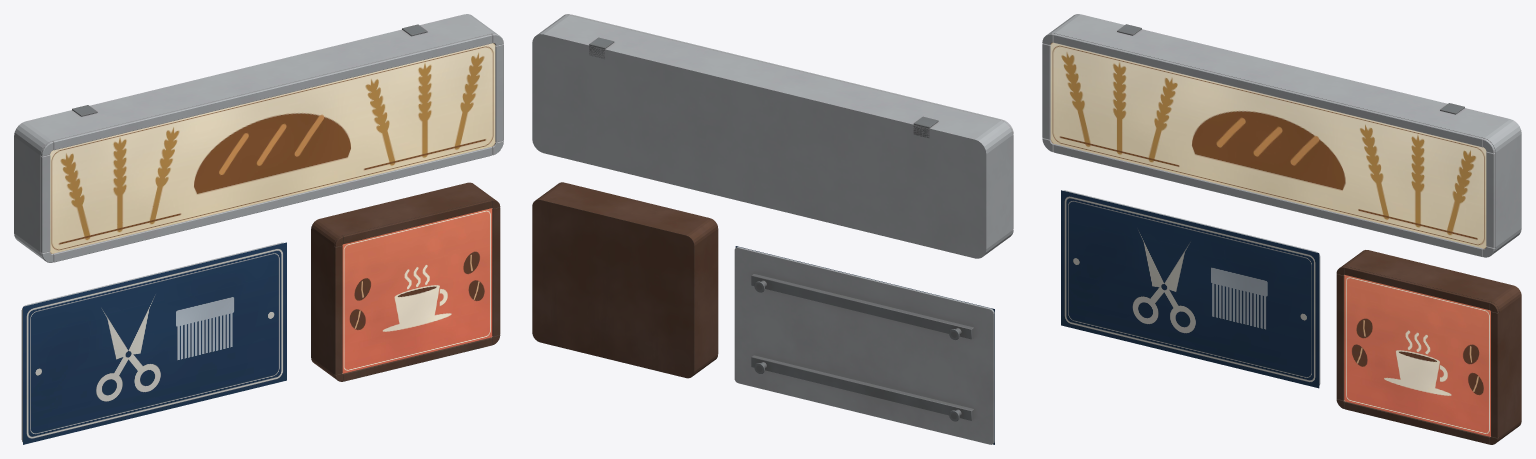
File: shop-sign.glb
3 views of the same model, side by side, from view 1: azimuth 30°, elevation 25°; view 2: azimuth 150°, elevation 25°; view 3: azimuth 330°, elevation 25° (orthographic). The views are drawn at different scales.
Visible parts, largest first — view 1: shop-sign_bakery_face, shop-sign_barber_face, shop-sign_bakery, shop-sign_cafe_face, shop-sign_cafe, shop-sign_barber; view 2: shop-sign_bakery, shop-sign_barber, shop-sign_cafe; view 3: shop-sign_bakery_face, shop-sign_barber_face, shop-sign_bakery, shop-sign_cafe_face, shop-sign_cafe, shop-sign_barber.
Part boxes in pixels (x1,y1,x2,y2): shop-sign_bakery_face: (50, 43, 495, 253); shop-sign_barber_face: (23, 242, 286, 444); shop-sign_bakery: (14, 14, 503, 262); shop-sign_cafe_face: (342, 208, 492, 373); shop-sign_cafe: (311, 182, 500, 381); shop-sign_barber: (21, 242, 283, 442); shop-sign_bakery: (532, 14, 1013, 258); shop-sign_barber: (734, 247, 994, 444); shop-sign_cafe: (532, 182, 718, 378); shop-sign_bakery_face: (1050, 42, 1486, 248); shop-sign_barber_face: (1061, 190, 1319, 388); shop-sign_bakery: (1042, 14, 1521, 257); shop-sign_cafe_face: (1344, 275, 1490, 436); shop-sign_cafe: (1336, 250, 1521, 444); shop-sign_barber: (1063, 190, 1320, 385).
Bounding box in the file's own units: 1.4 × 0.914 × 0.148.
6 materials, 6 textured.
